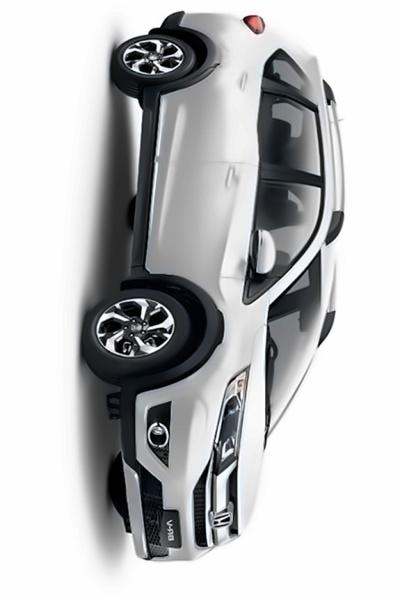Car hood: (235, 320, 272, 542)
Driver-s door - -F-R-: (145, 163, 338, 279)
Fender - -F-R-: (115, 261, 278, 388)
Fender - -R-R-: (144, 33, 281, 106)
Front bumper: (112, 360, 220, 564)
Headlight - -R-: (210, 361, 253, 477)
Passenger-s door - -R-R-: (152, 61, 338, 163)
Rear bumper: (140, 6, 239, 46)
Rear light - -R-: (235, 7, 282, 40)
Side bumper - -R-: (128, 90, 165, 285)
Side mirror - -R-: (240, 217, 281, 286)
